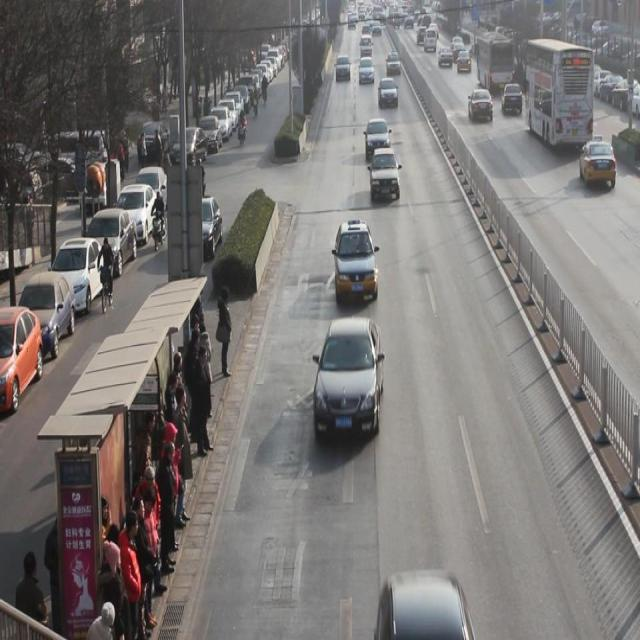car: (312, 317, 384, 442), (334, 222, 379, 304), (580, 142, 617, 188), (371, 148, 400, 203), (366, 120, 391, 164), (469, 89, 494, 123), (378, 78, 399, 110), (502, 84, 523, 115), (359, 57, 375, 85)
van: (524, 40, 592, 154), (474, 31, 514, 92)
